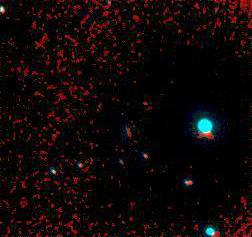star: (131, 94, 161, 124)
